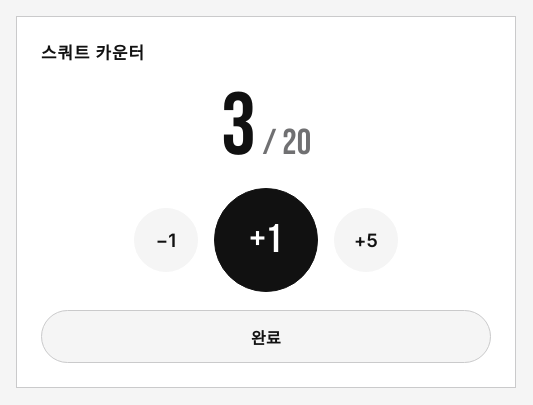
Test: Tapping the count opens direct entry and Enter commits the typed value
Step 1. Click the button named "완료 횟수 3" → x=266, y=127, box [205, 84, 327, 171]
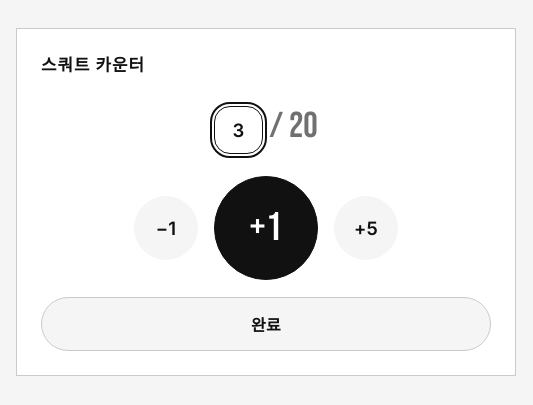
expect the field with id "squat-done-reps" holds "3": met
Step 2. Replace the text in the field with id "squat-done-reps" with "14" → x=239, y=130, box [214, 106, 263, 154]
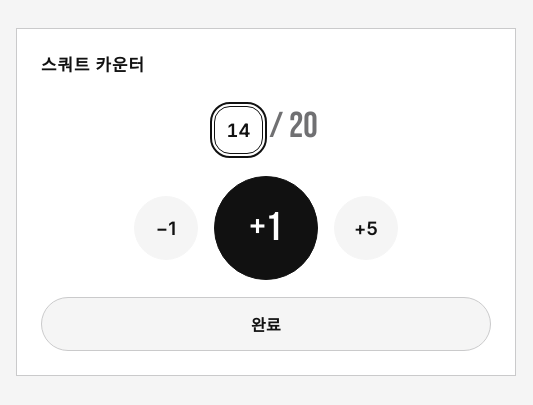
Step 3. Submit the form, box [214, 101, 327, 154]
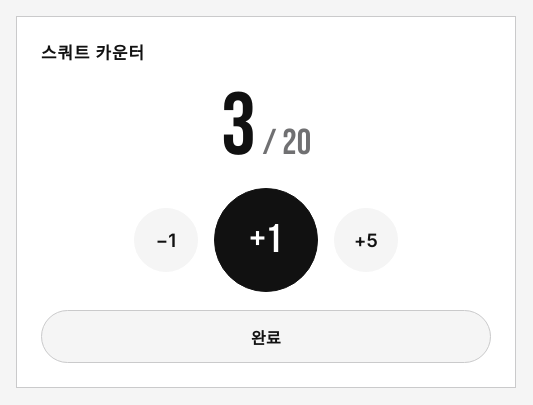
expect the field with id "squat-done-reps" is gone: met
